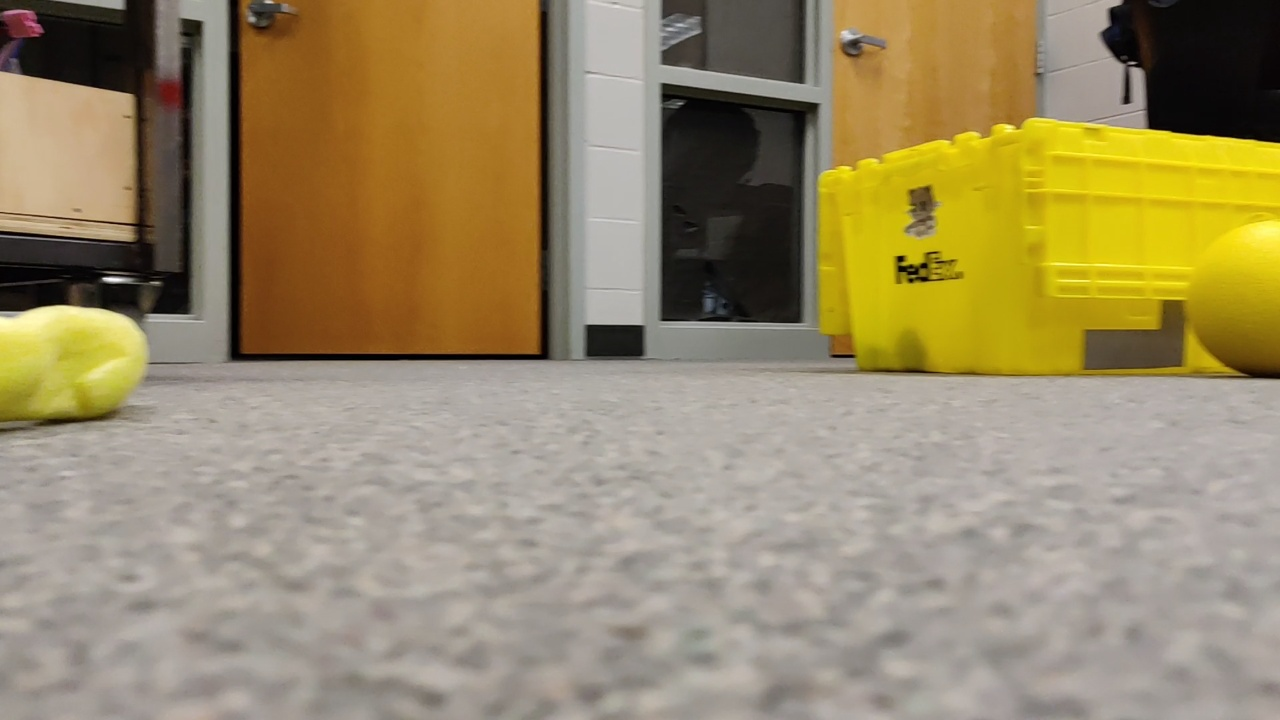Ball: (1175, 218, 1280, 374)
